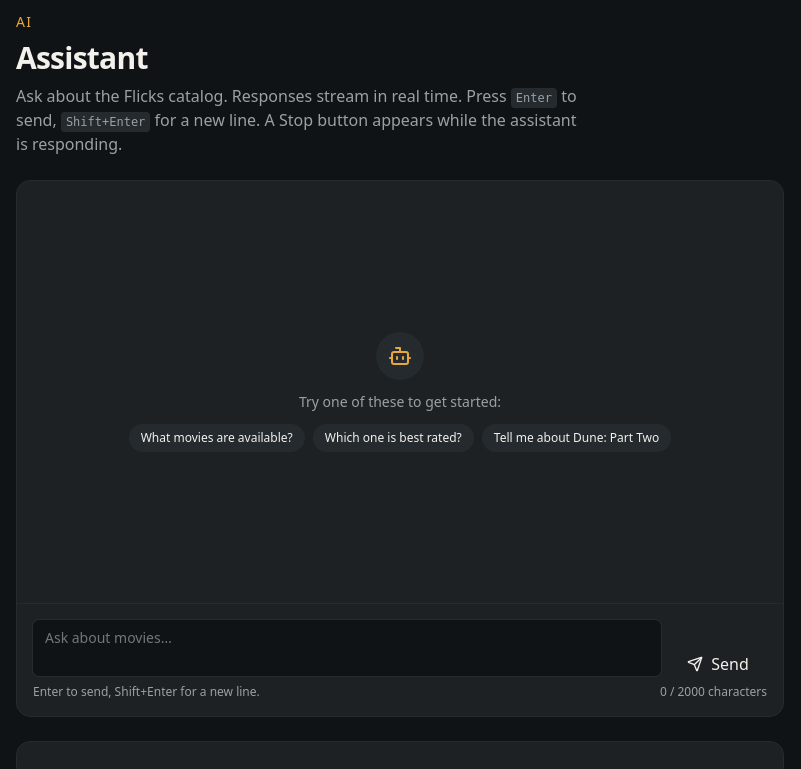
Test: Assistant › reports an error that arrives inside the stream
The image size is (801, 769).
Type "Which sci-fi movies run under three hours?" into the text box labelled "Ask about movies".
click(347, 648); type("Which sci-fi movies run under three hours?")  # box [33,620,661,676]
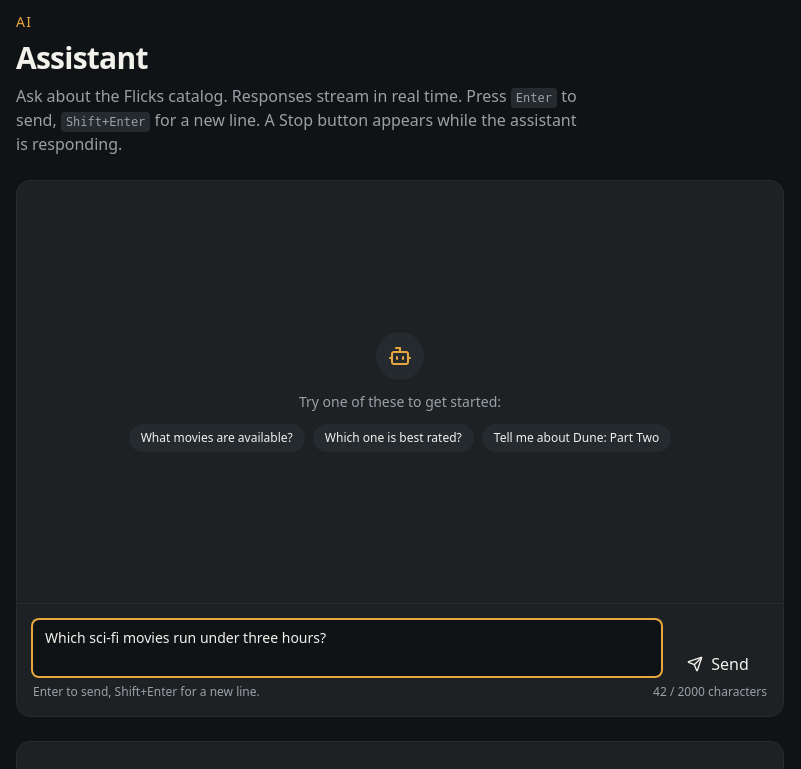
Click the button with aria-label "Send message".
click(718, 664)  # box [669,652,767,676]
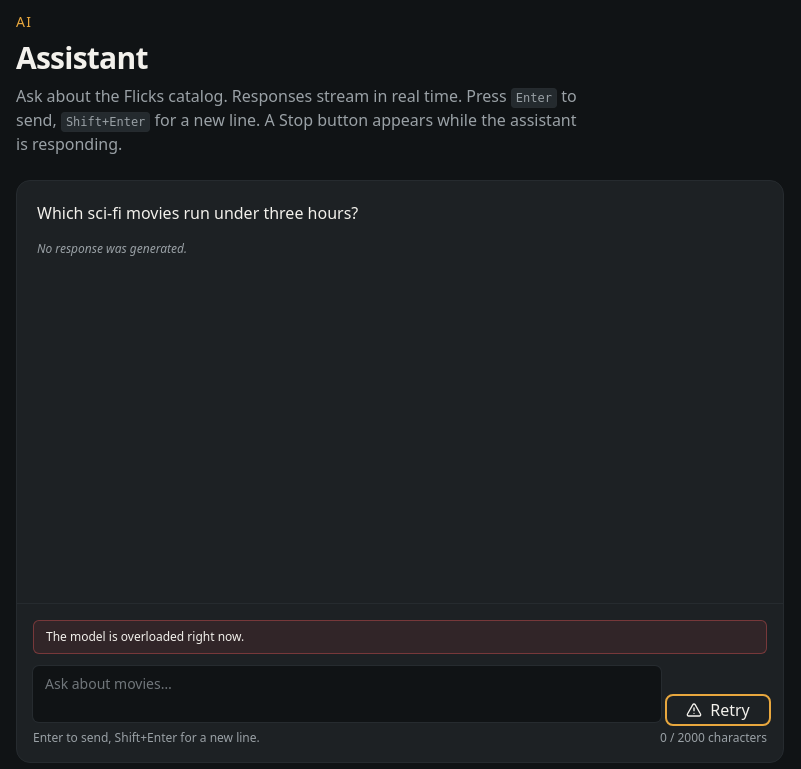
Now the message reads "The model is overloaded right now.", box [46,628,244,645]
